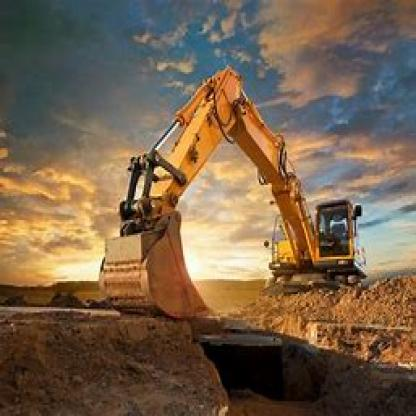excavator: (82, 57, 387, 335)
